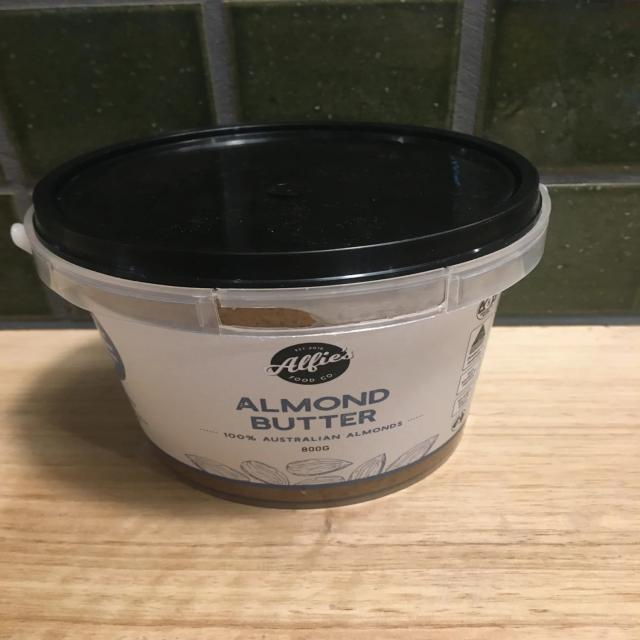plastic: (11, 121, 556, 504)
